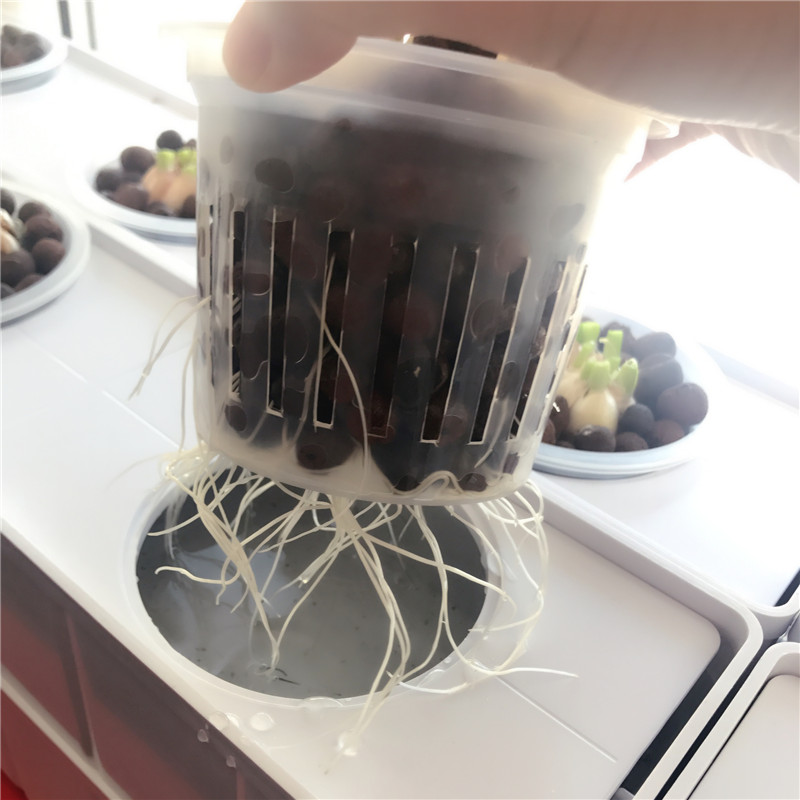basket: (166, 10, 637, 509)
